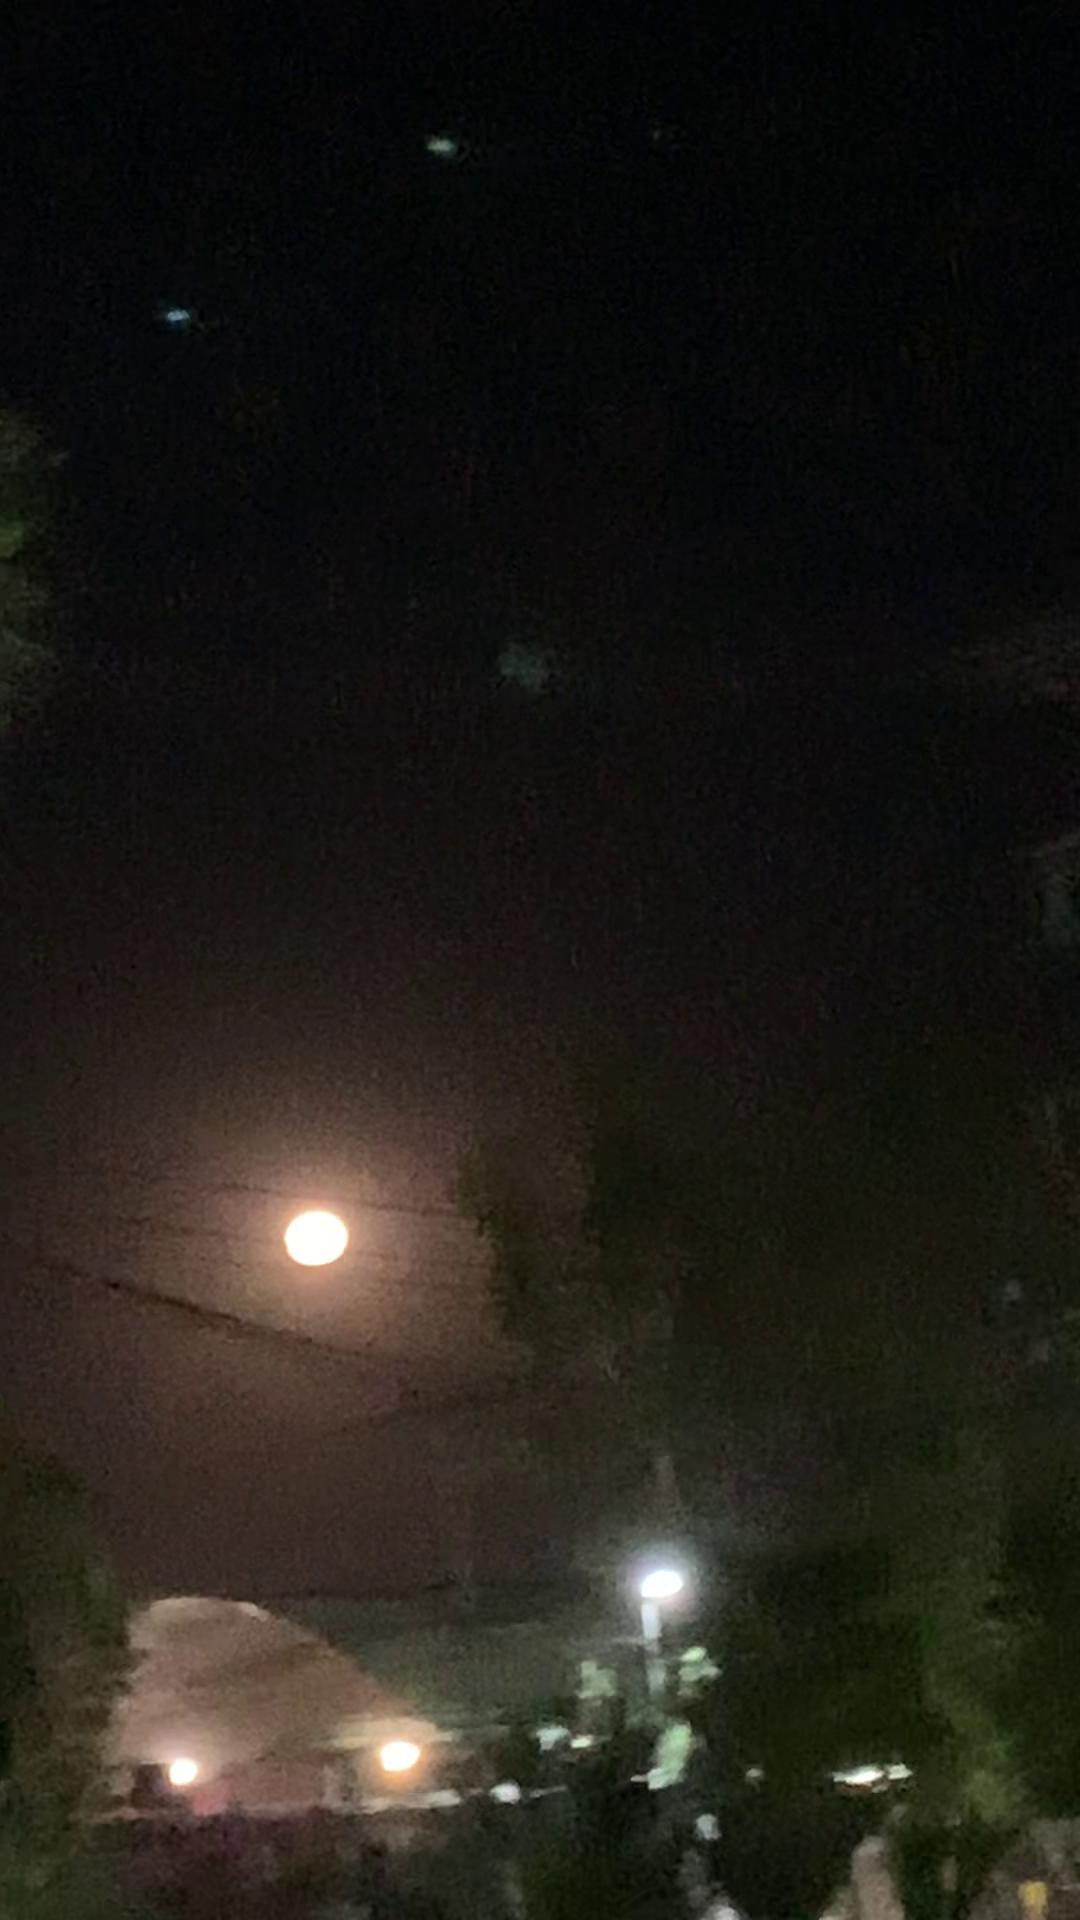moon: (264, 1197, 363, 1279)
